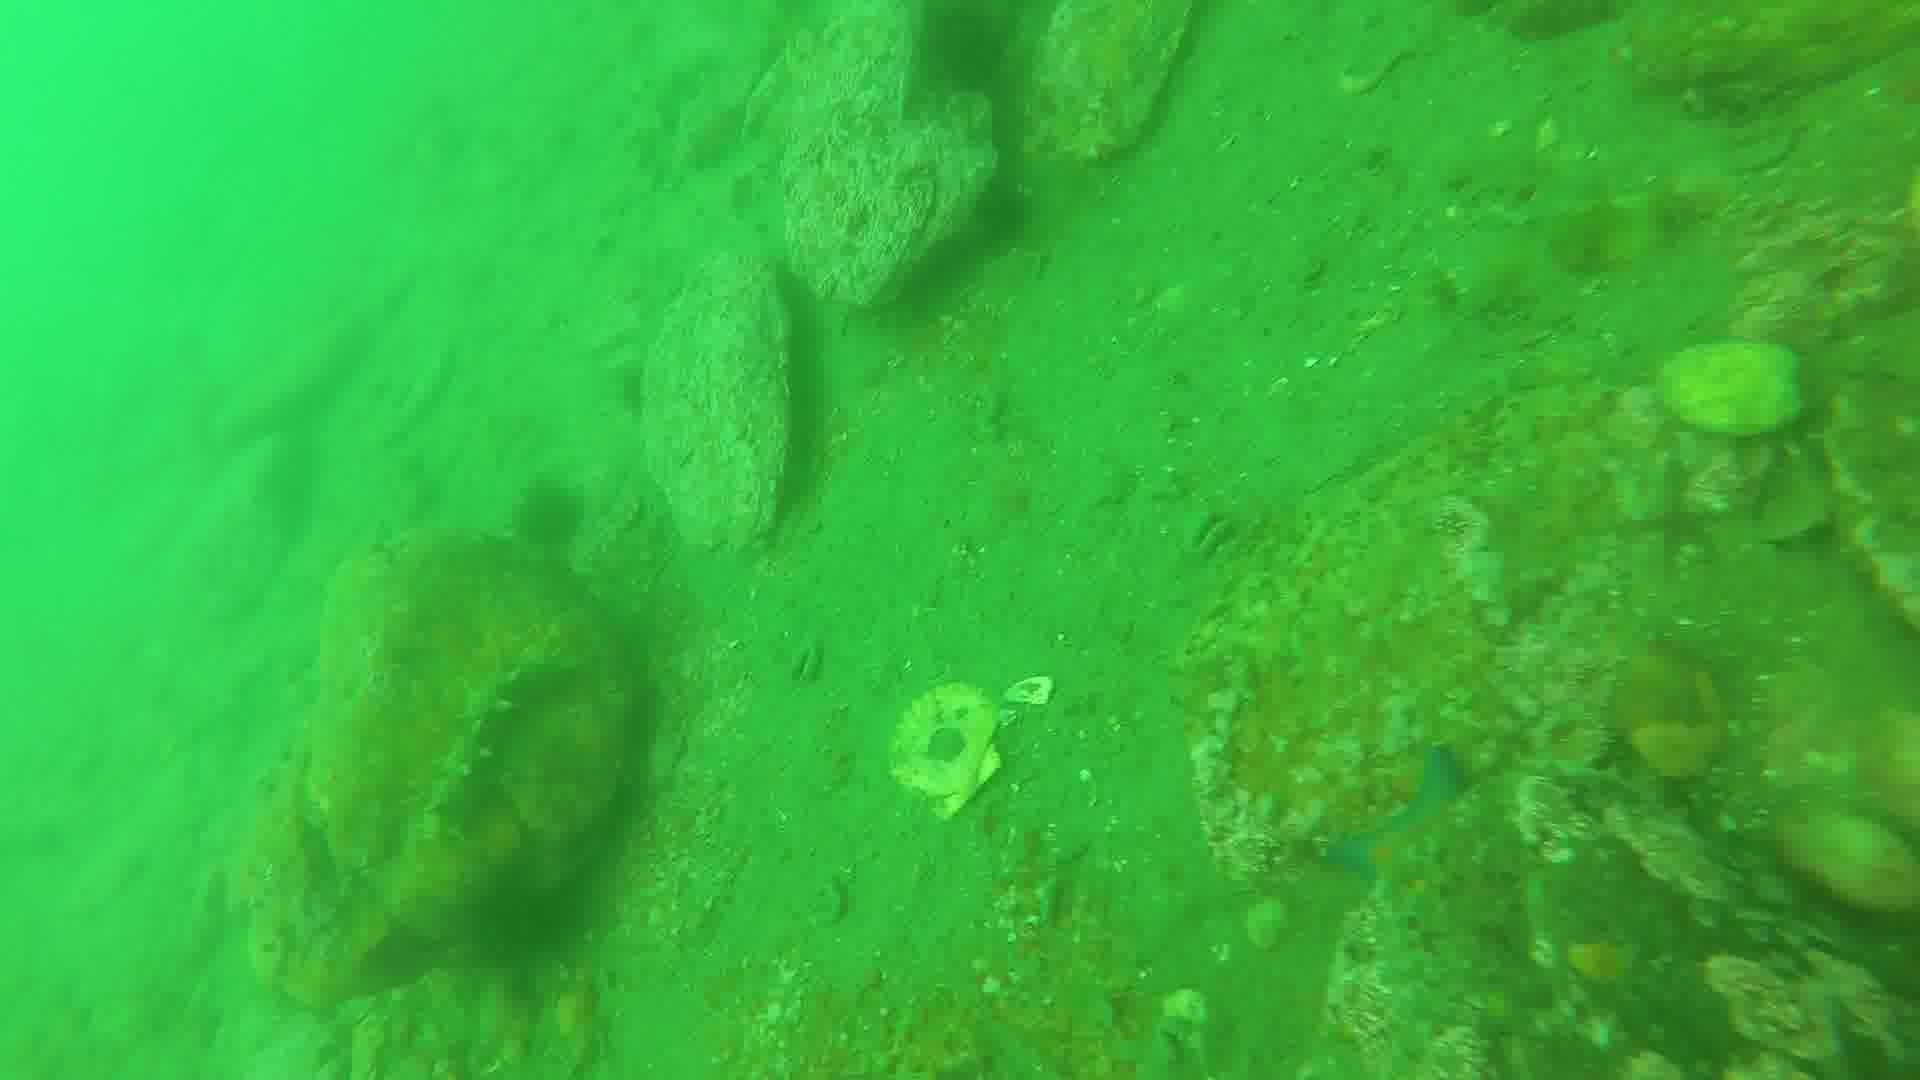scallop: (887, 687, 1010, 818)
starfish: (1324, 758, 1522, 951)
